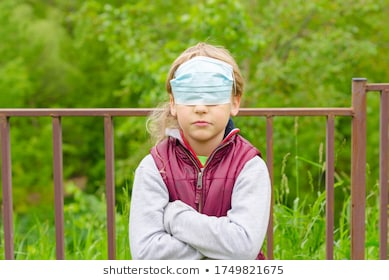mask_weared_incorrect: (172, 64, 232, 139)
